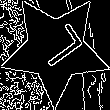L_SW: (27, 23, 84, 77)
